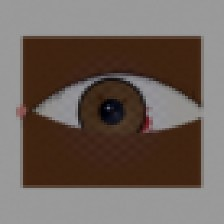hemorrhage_spot: (85, 92, 161, 153)
